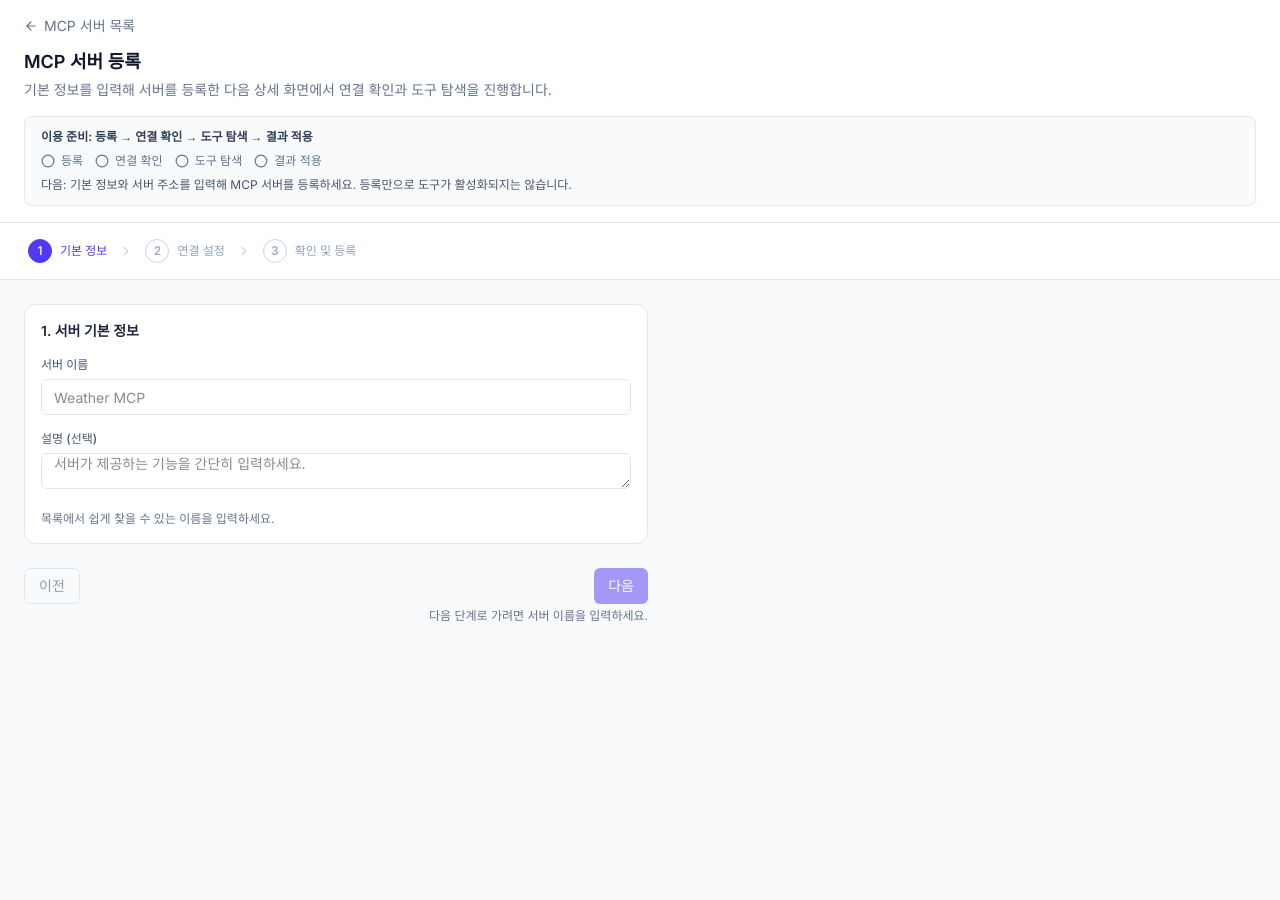
Test: MCPServerNew beginner setup guidance › shows overall setup progress and disabled next reason in body text
Expected: the element with test id "mcp-server-setup-progress" is shown, [24, 116, 1256, 206]
Expected: the text with test id "mcp-server-setup-next" shows "등록", [41, 177, 572, 192]
In the field labelled "서버 이름": (336, 397) [41, 379, 631, 415], type "Weather"
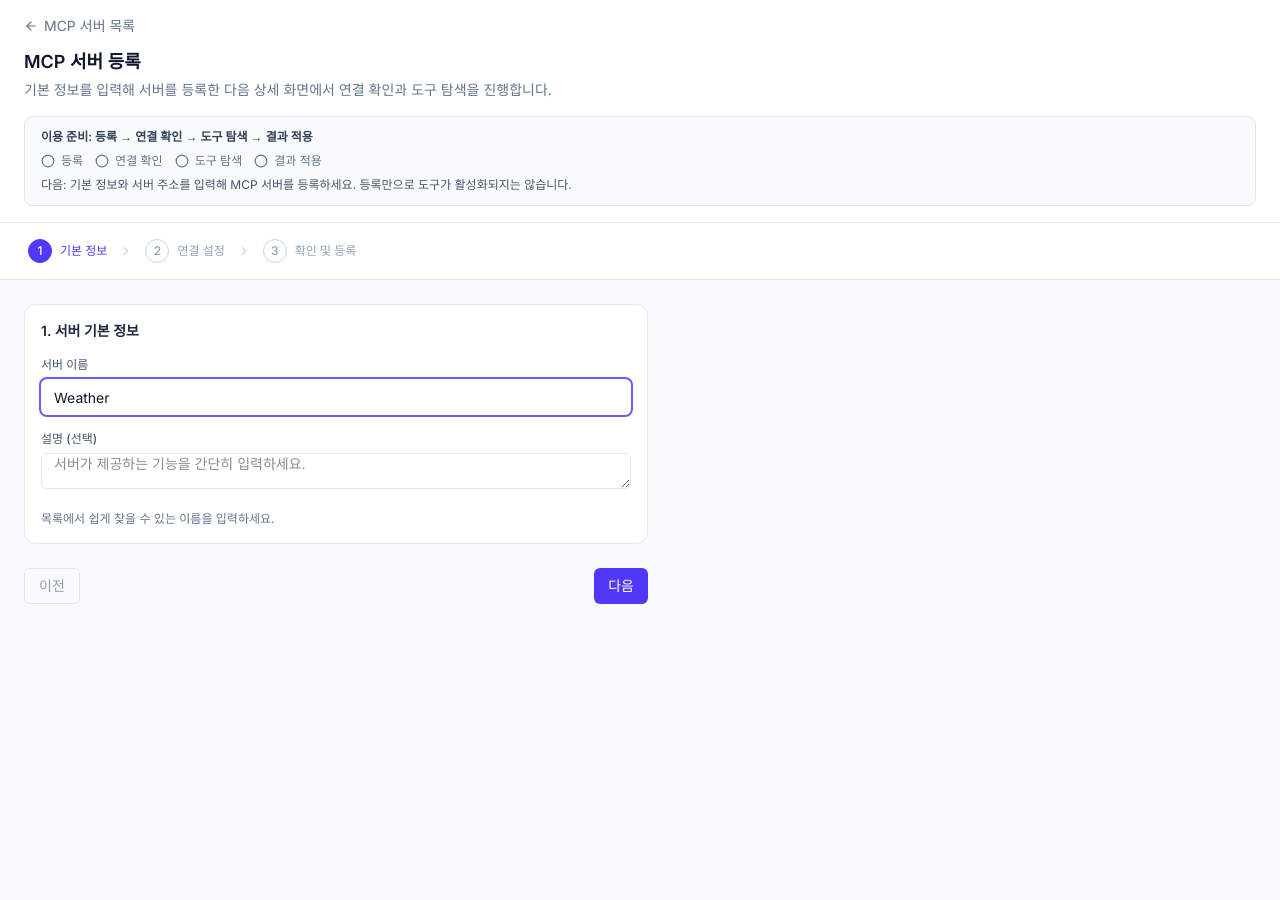
Now the text with test id "mcp-register-next-disabled-reason" is gone
Click the button "다음": (621, 586) [594, 568, 648, 604]
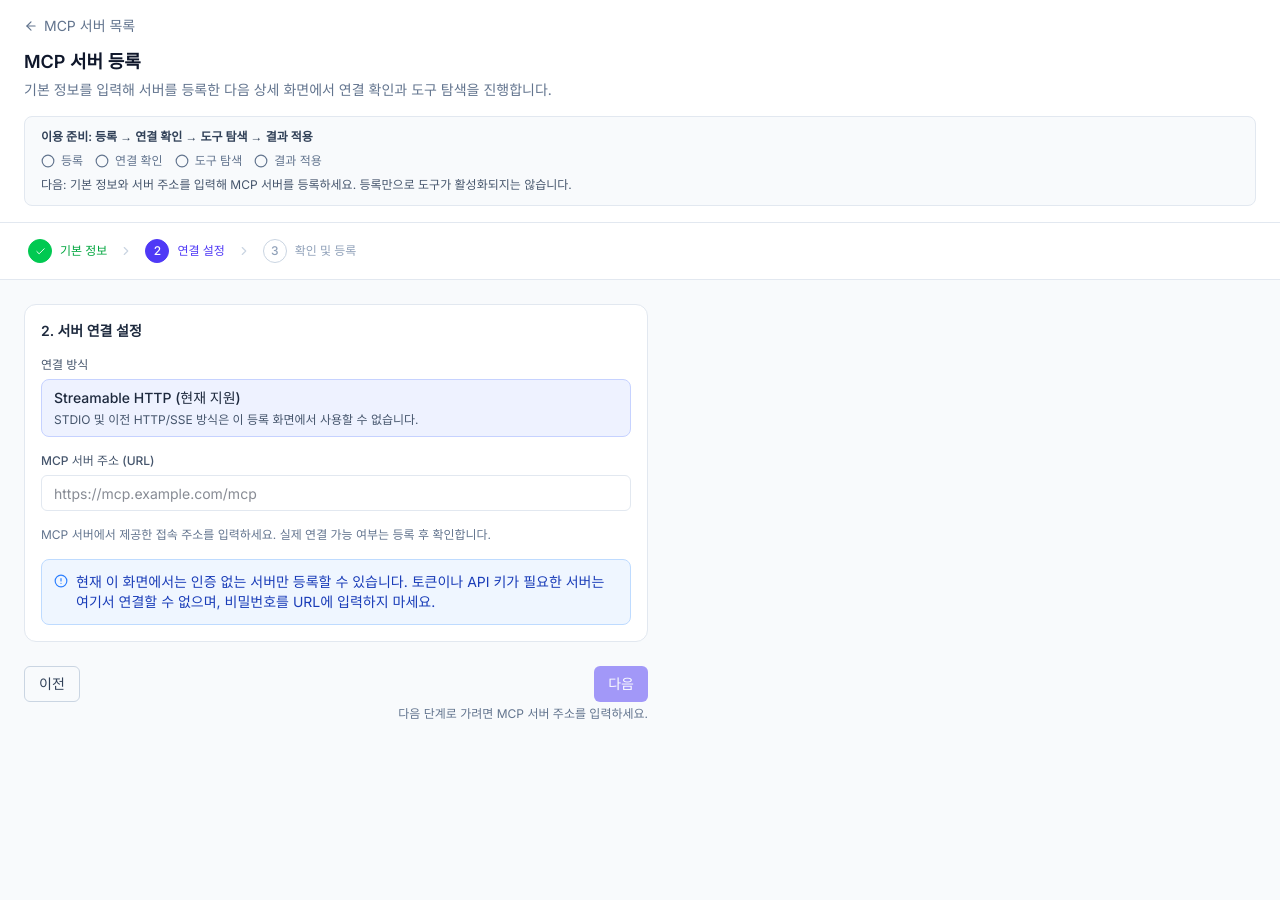
Now the text with test id "mcp-register-next-disabled-reason" shows "서버 주소", box [398, 706, 648, 721]
